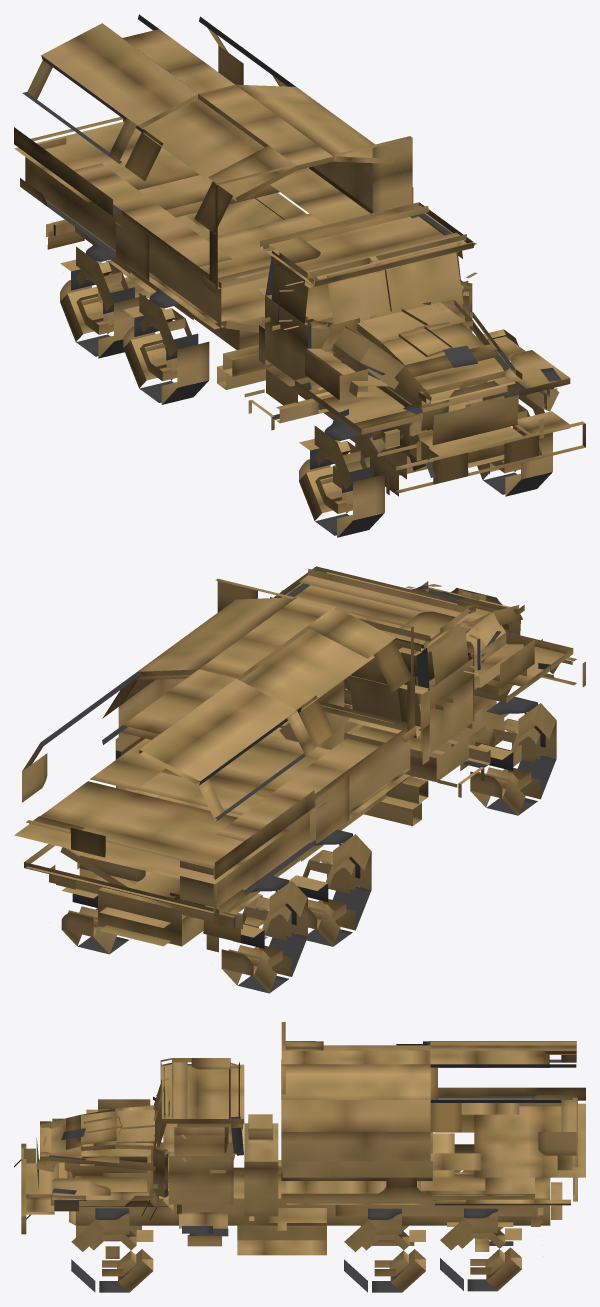
Rendered from ural4320.obj.
3 renders of one model, top to bottom at view 1: azimuth 30°, elevation 25°; view 2: azimuth 150°, elevation 25°; view 3: azimuth 270°, elevation 25°, orthographic. The views are drawn at different scales.
Visible parts, largest first — view 1: body, w1, w2, w3, w4; view 2: body, w1, w3, w2, w6; view 3: body, w4, w5, w6.
Boxes of the visible parts, x1,y1,x2,y2 form: body: (14,14,585,496); w1: (299,419,384,537); w2: (123,288,209,404); w3: (60,241,145,358); w4: (468,382,552,496); body: (14,566,585,952); w1: (470,695,556,815); w3: (221,876,307,993); w2: (289,829,371,946); w6: (61,863,128,954); body: (14,1022,585,1258); w4: (71,1208,153,1292); w5: (344,1208,425,1292); w6: (440,1208,521,1291).
Size of the model in its own units: 2.99 by 3.57 by 9.31.
